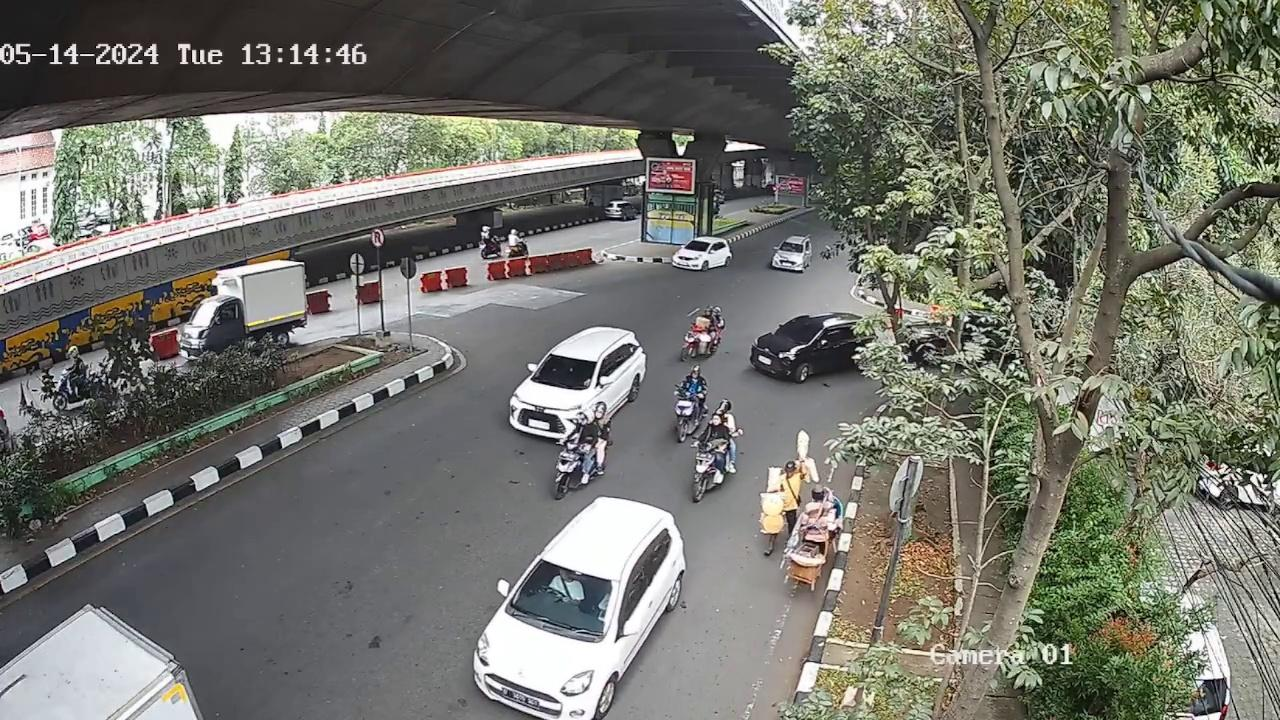pakai: (545, 571, 591, 609)
windshield: (511, 562, 619, 635), (532, 352, 599, 392)
